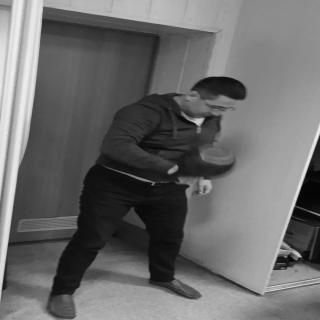kettlebell: (163, 146, 235, 187)
